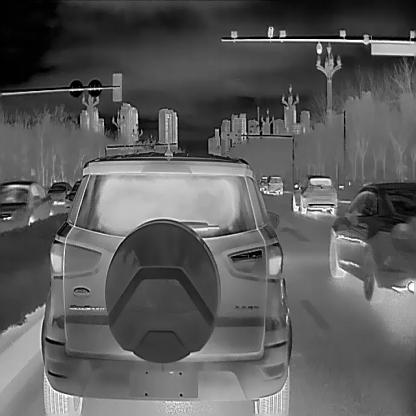car: (41, 152, 292, 415), (328, 181, 416, 302), (0, 180, 52, 230), (291, 173, 337, 215), (46, 181, 72, 205), (266, 175, 283, 195), (257, 173, 268, 193)
